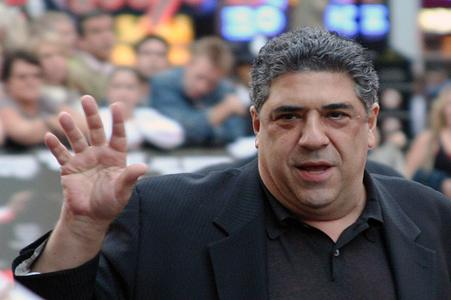person: (25, 29, 451, 300)
